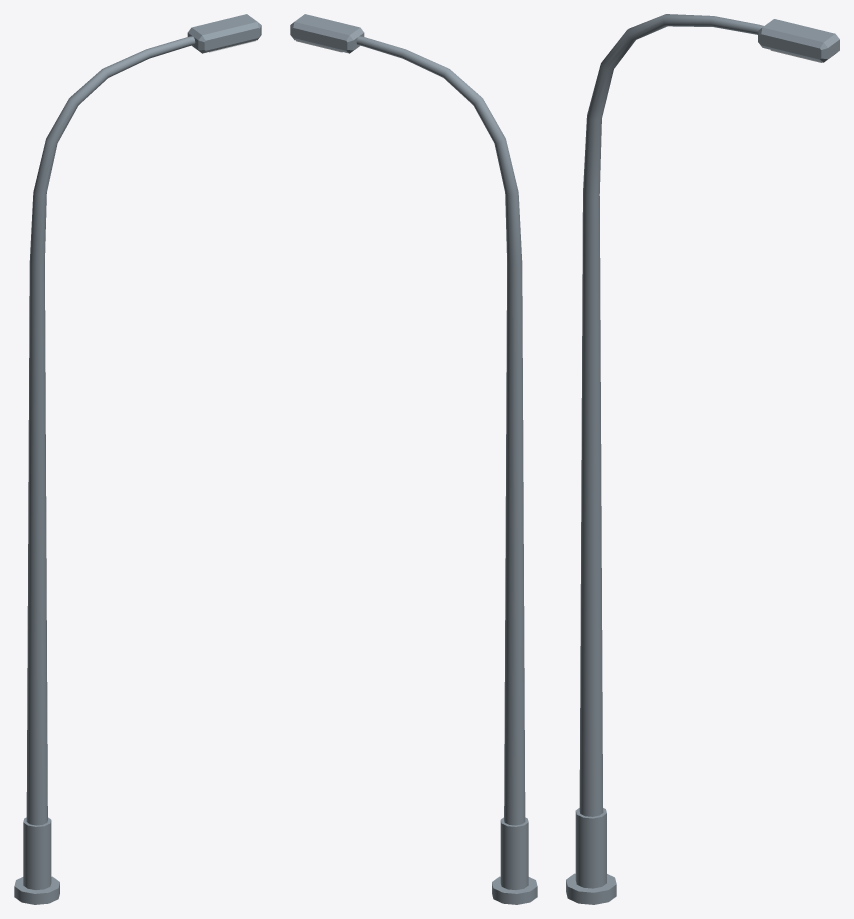
File: street_lamp.glb
3 renders of one model, left to right at view 1: azimuth 30°, elevation 25°; view 2: azimuth 150°, elevation 25°; view 3: azimuth 330°, elevation 25°, orthographic. The views are drawn at different scales.
Parts seen in each view (by area): view 1: street_lamp; view 2: street_lamp; view 3: street_lamp.
Part boxes in pixels (x1,y1,x2,y2): street_lamp: (14, 14, 261, 904); street_lamp: (290, 14, 537, 904); street_lamp: (566, 14, 839, 904).
Bounding box in the file's own units: 2.72 × 9 × 0.462.
